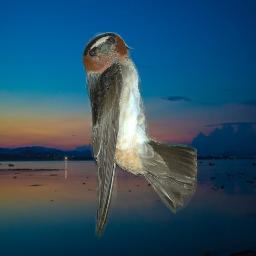Swallow: (81, 32, 197, 240)
